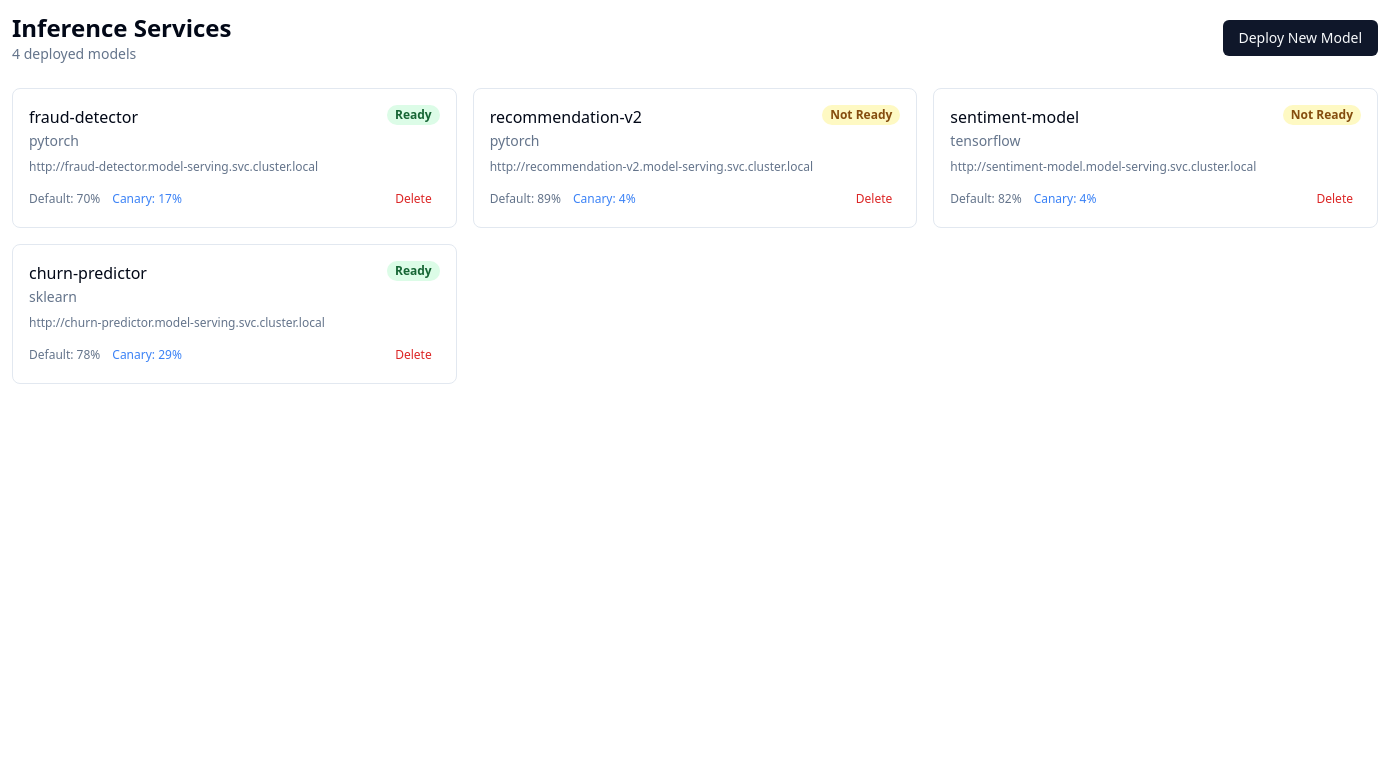
it: InferenceServicesPage › shows metrics section when a service card is clicked
Click the heading "fraud-detector".
click(84, 117)  # box [29,106,138,128]
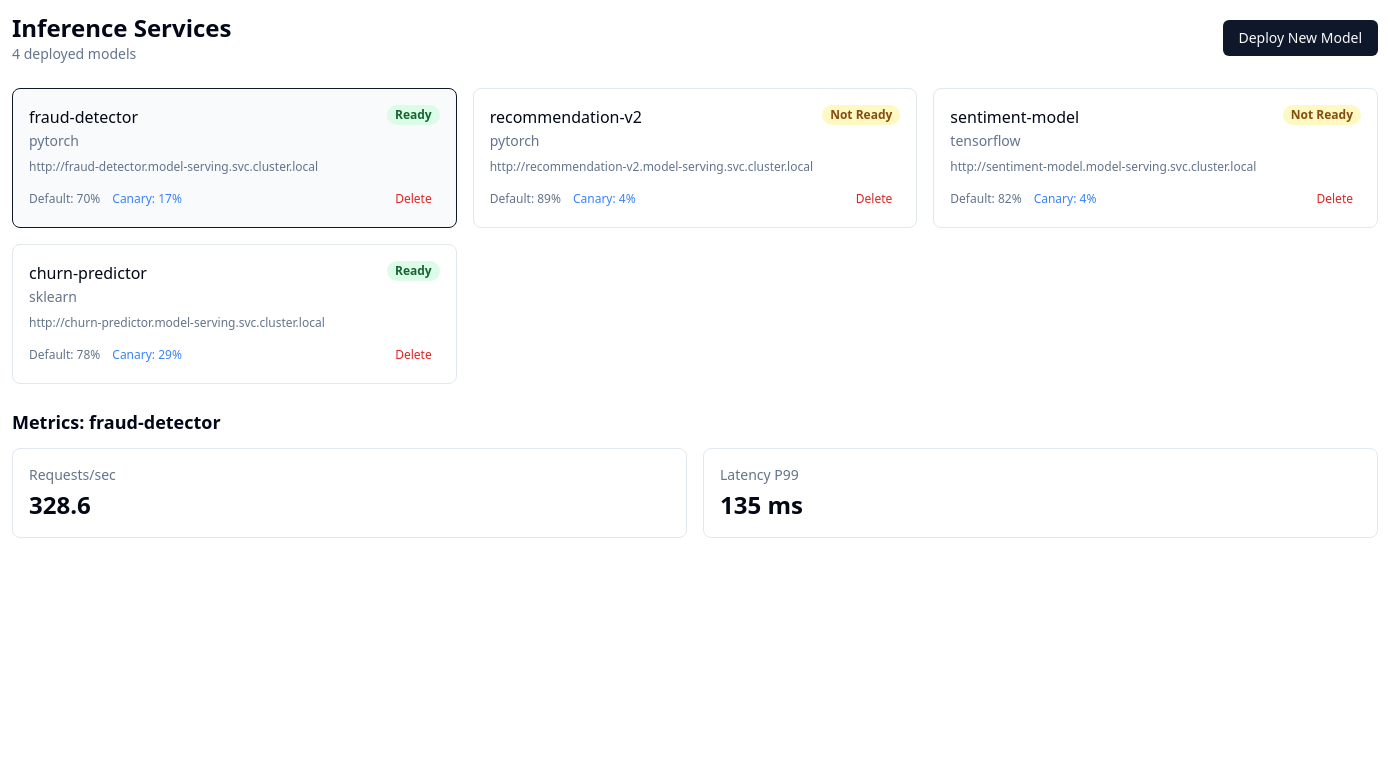
Now the heading "Metrics: fraud-detector" is shown, box [12,410,221,434]
